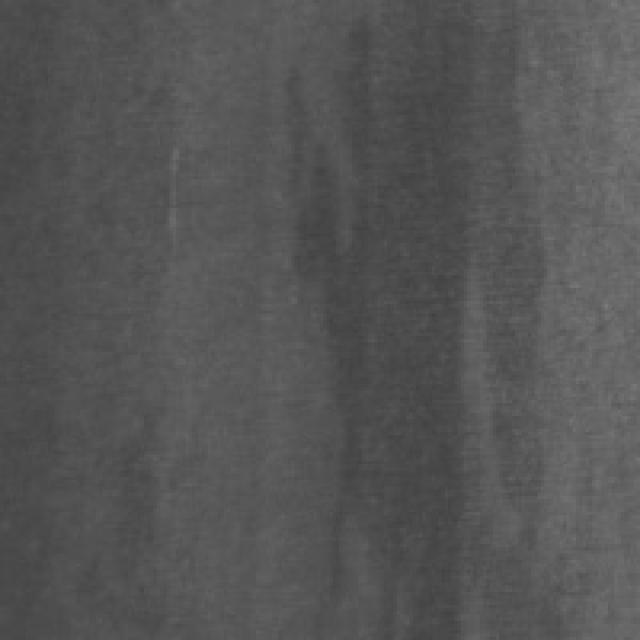inclusion: (275, 3, 394, 595)
